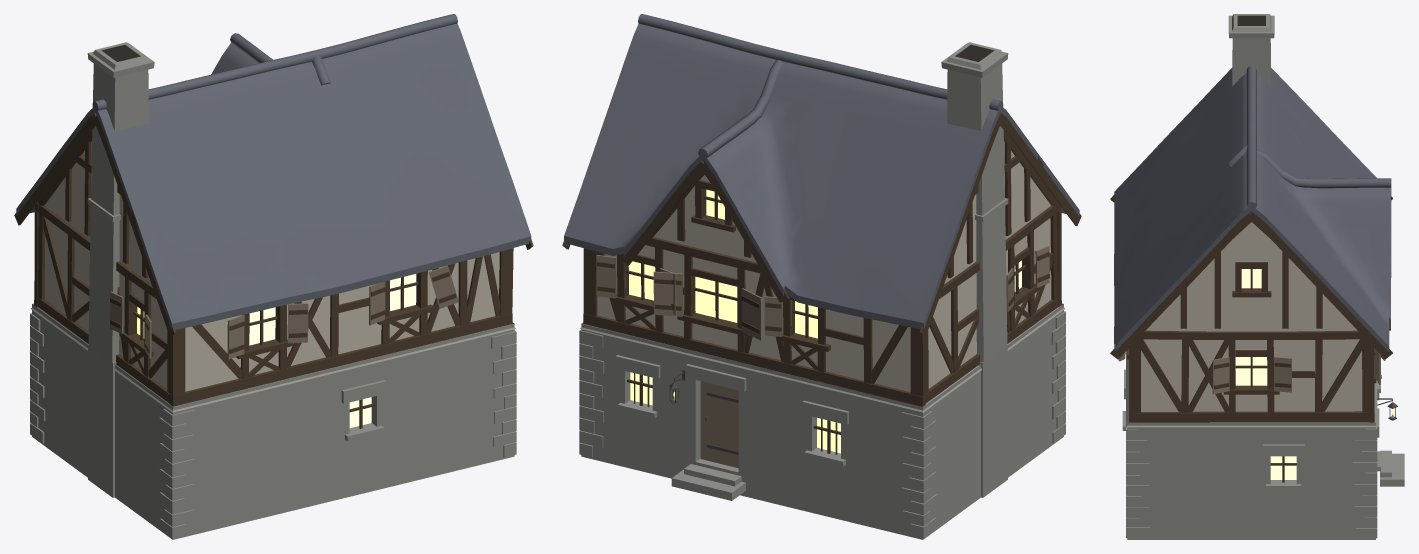
File: house_d.glb
3 renders of one model, left to right at view 1: azimuth 30°, elevation 25°; view 2: azimuth 150°, elevation 25°; view 3: azimuth 270°, elevation 25°, orthographic. The views are drawn at different scales.
Visible parts, largest first — view 1: house_d, window_9, window_10; view 2: house_d, window_6, window_5, window_7; view 3: house_d, window_11, window_4, window_12.
Part boxes in pixels (box(x1,y1,x2,y2)): house_d: box(14, 14, 533, 539); window_9: box(249, 307, 275, 345); window_10: box(390, 274, 416, 311); house_d: box(562, 14, 1081, 539); window_6: box(695, 276, 737, 322); window_5: box(628, 261, 655, 300); window_7: box(795, 301, 817, 338); house_d: box(1110, 14, 1404, 539); window_11: box(1235, 357, 1267, 385); window_4: box(1270, 456, 1296, 479); window_12: box(1241, 269, 1261, 288).
Size of the model in its own units: 9.23 by 10.52 by 7.39.
